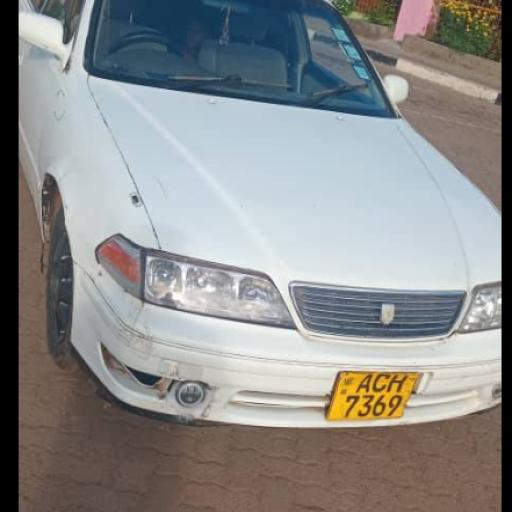number-plates: (335, 370, 417, 421)
